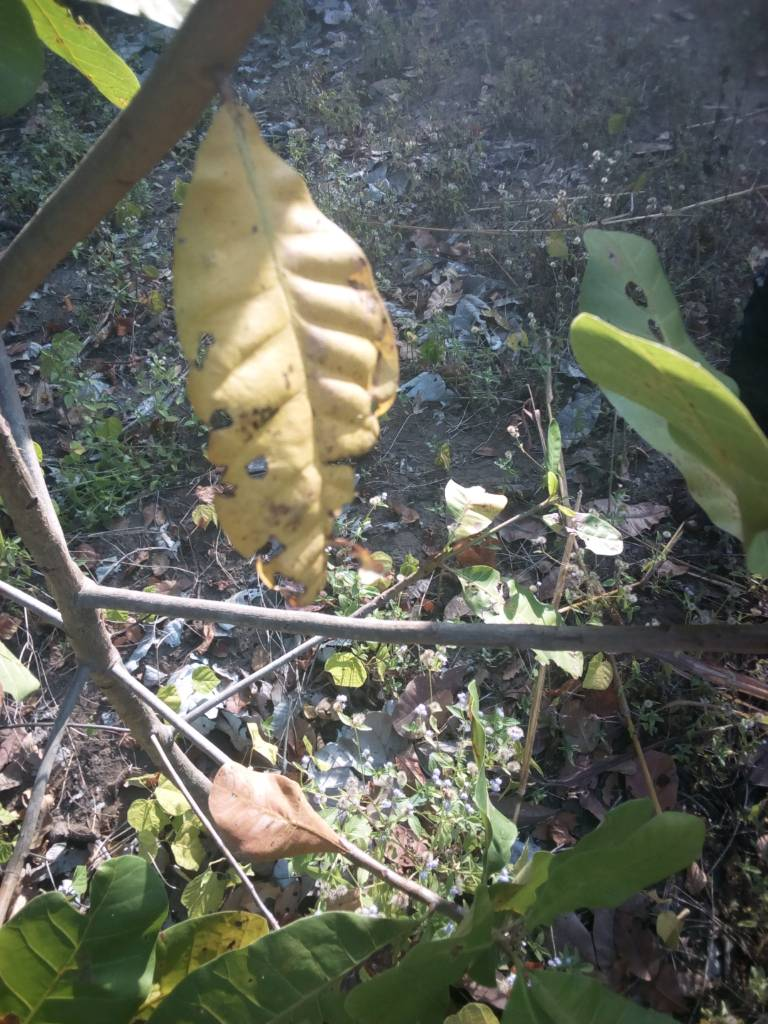Bactériose: (174, 119, 397, 597)
